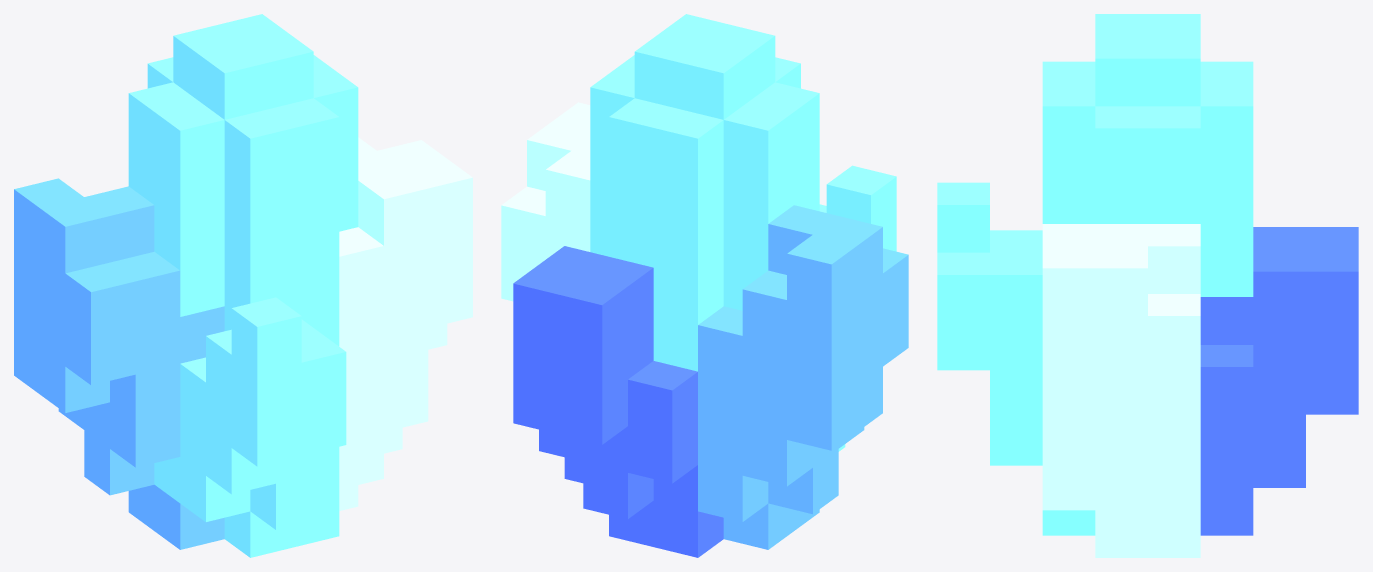
File: item_ENERGY.glb
The picture shows the model from 3 angles, left to right: view 1: azimuth 30°, elevation 25°; view 2: azimuth 150°, elevation 25°; view 3: azimuth 270°, elevation 25°; orthographic projection. The views are drawn at different scales.
Parts seen in each view (by area): view 1: item_ENERGY; view 2: item_ENERGY; view 3: item_ENERGY.
Part boxes in pixels (box(x1,y1,x2,y2)): item_ENERGY: box(14, 14, 472, 557); item_ENERGY: box(501, 14, 908, 557); item_ENERGY: box(937, 14, 1358, 557).
Size of the model in its own units: 0.1818 by 0.2273 by 0.1818.
Materials: 1 (1 with a texture image).
